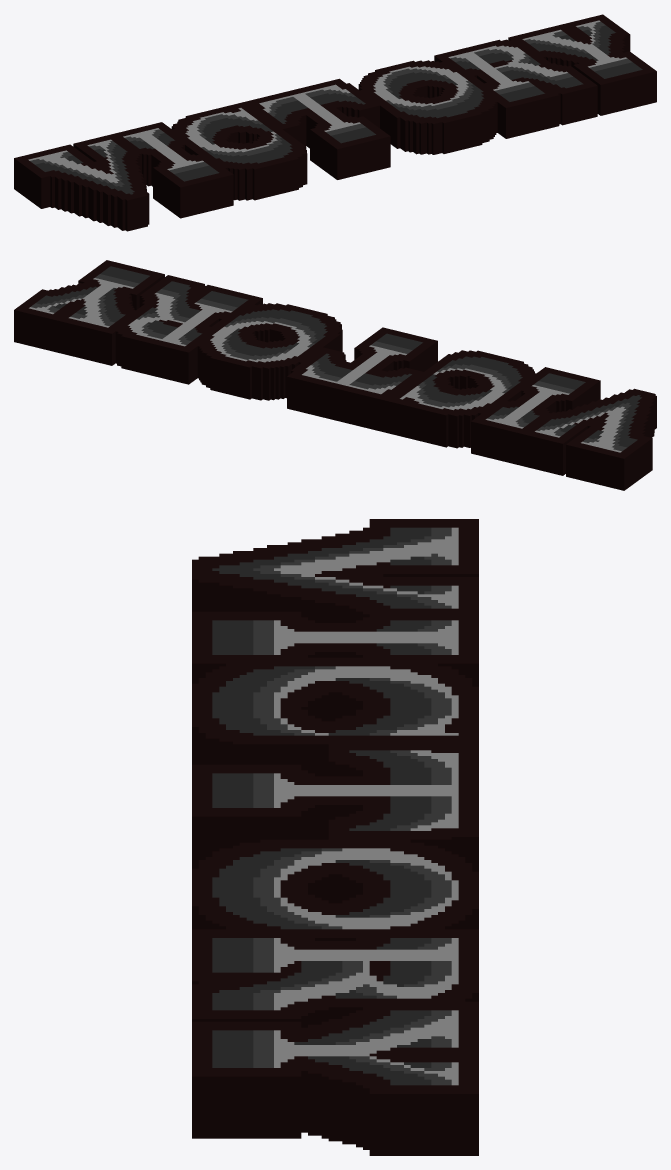
File: VictoryTitle-0-VictoryText2.obj
3 views of the same model, one above another, from view 1: azimuth 30°, elevation 25°; view 2: azimuth 150°, elevation 25°; view 3: azimuth 270°, elevation 25° (orthographic). The views are drawn at different scales.
Visible parts, largest first — view 1: VictoryText2; view 2: VictoryText2; view 3: VictoryText2.
Part boxes in pixels (left/top/right/bottom): VictoryText2: left=14, top=14, right=656, bottom=231; VictoryText2: left=14, top=260, right=656, bottom=490; VictoryText2: left=192, top=519, right=478, bottom=1155.
Bounding box in the file's own units: 19.9 × 1 × 4.2.
1 material, 1 textured.
